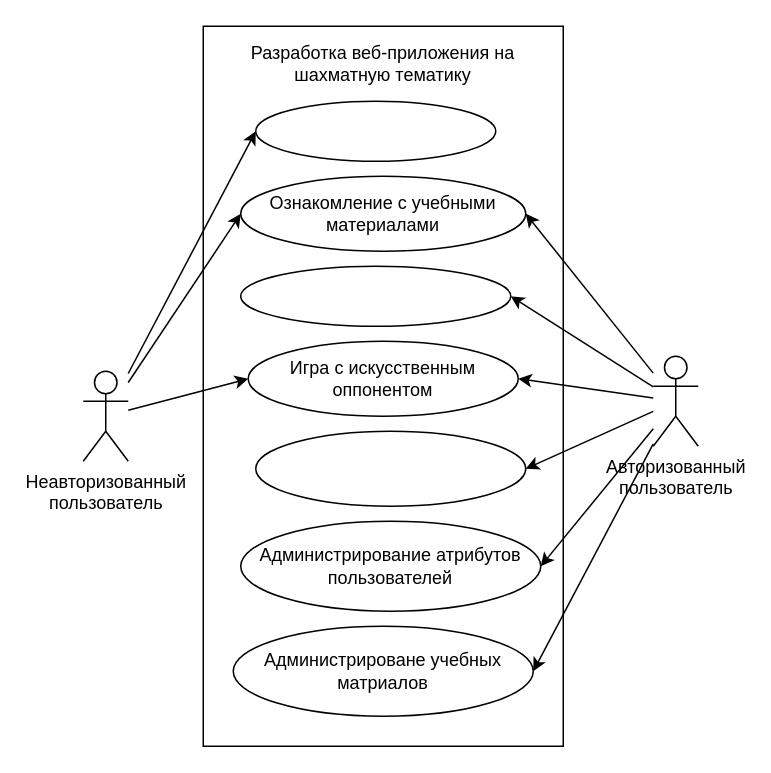
This 771x773 diagram has some shape labels left out. The shapes that lost their labels are listed below. From the top down, each one's centre as x and y in pixels, then its label:
At pixel 375 130: "Авторизация в системе".
At pixel 375 295: "Общение с пользователями".
At pixel 390 468: "Игра с другими пользователями".
